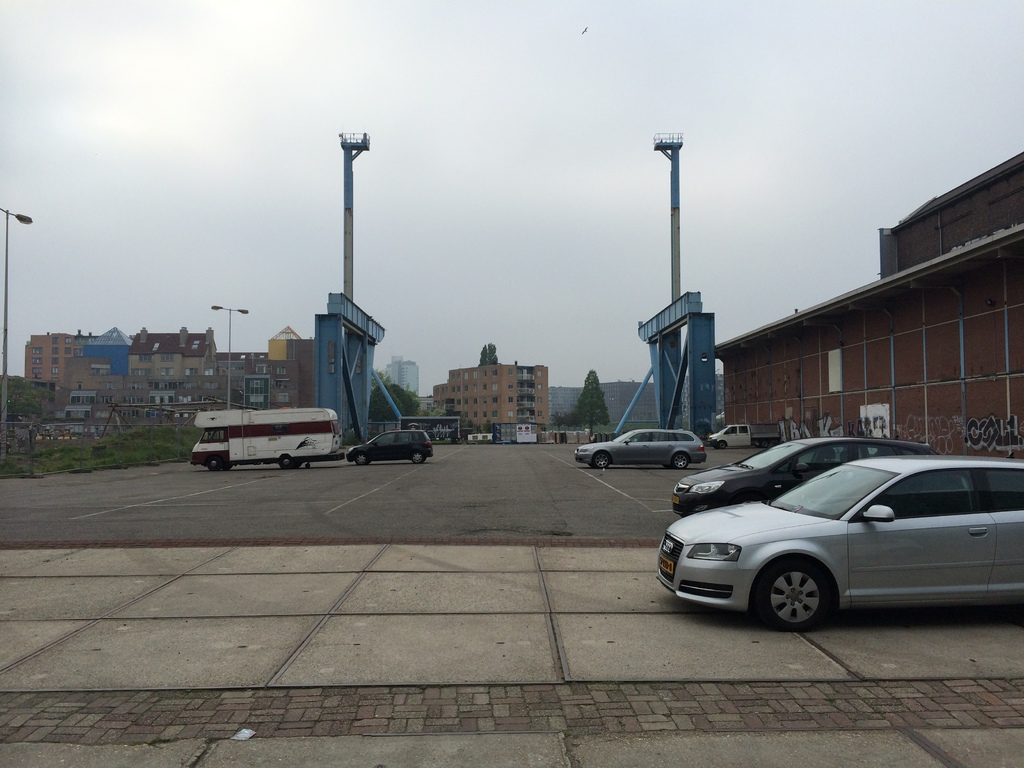cars: (653, 458, 1023, 634), (670, 439, 944, 519), (573, 431, 706, 472), (344, 428, 431, 466)
